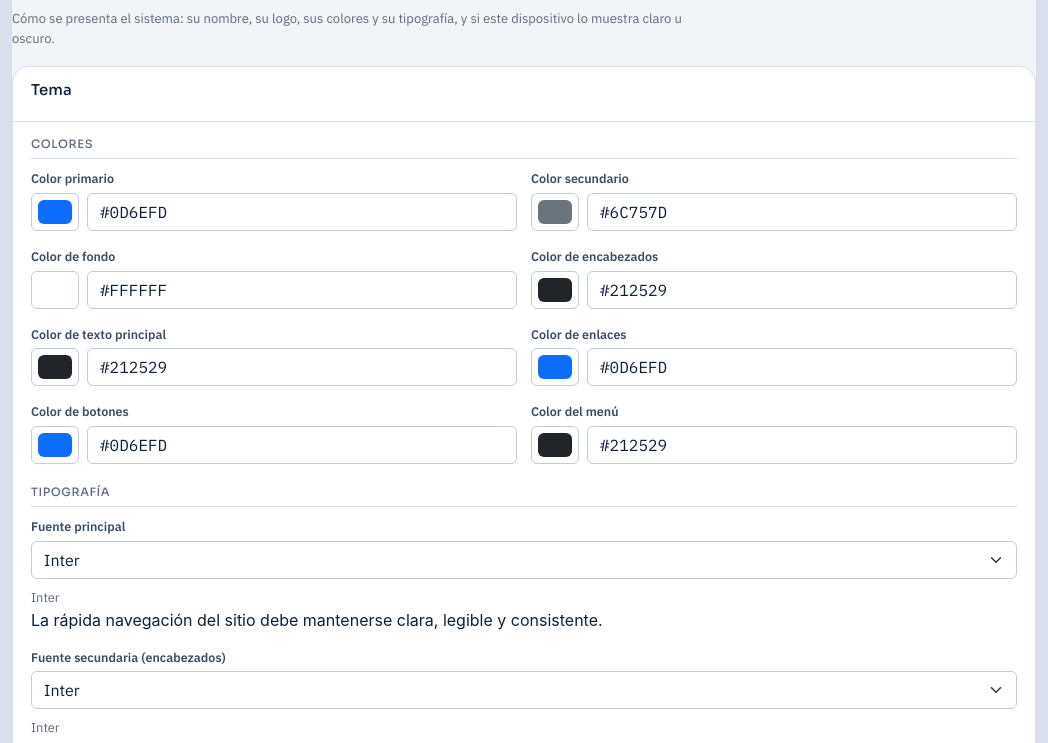
La pestaña de colores › corregido, vuelve a poder guardarse
The image size is (1048, 743).
Expected: the heading "Colores" is shown, left=31, top=138, right=1017, bottom=159
Type "azul" into the field below "Color primario" at (302, 212), box left=87, top=193, right=517, bottom=231
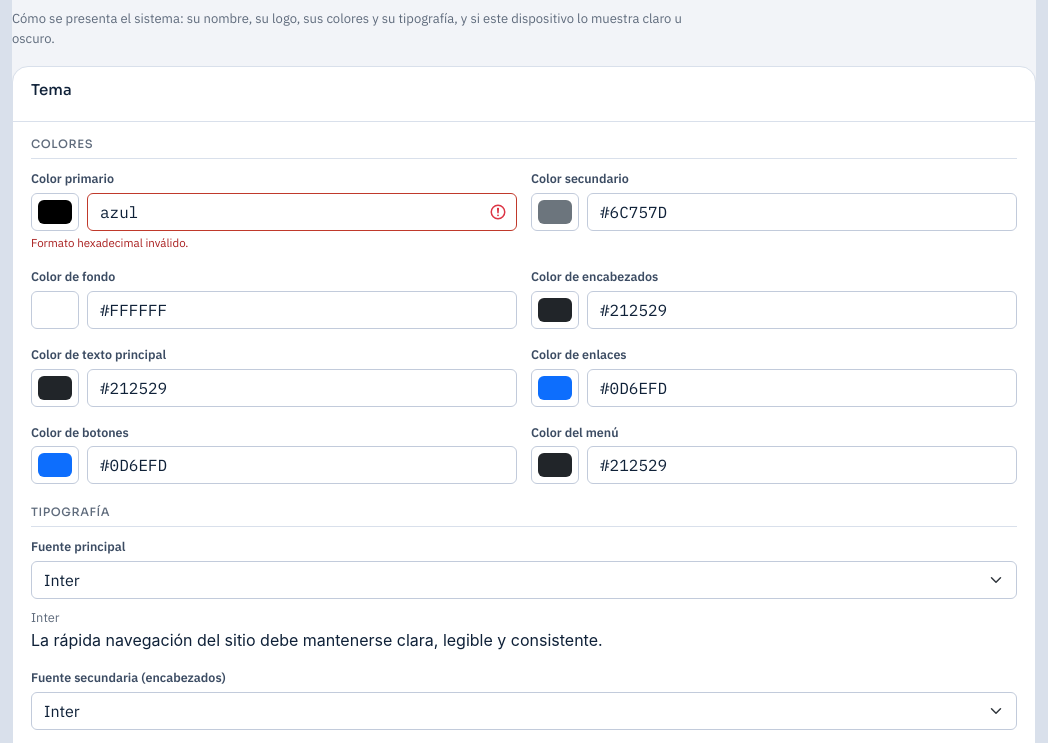
Replace the text in the field below "Color primario" with "#FF5733" at (302, 212), box left=87, top=193, right=517, bottom=231
(page scrolled)
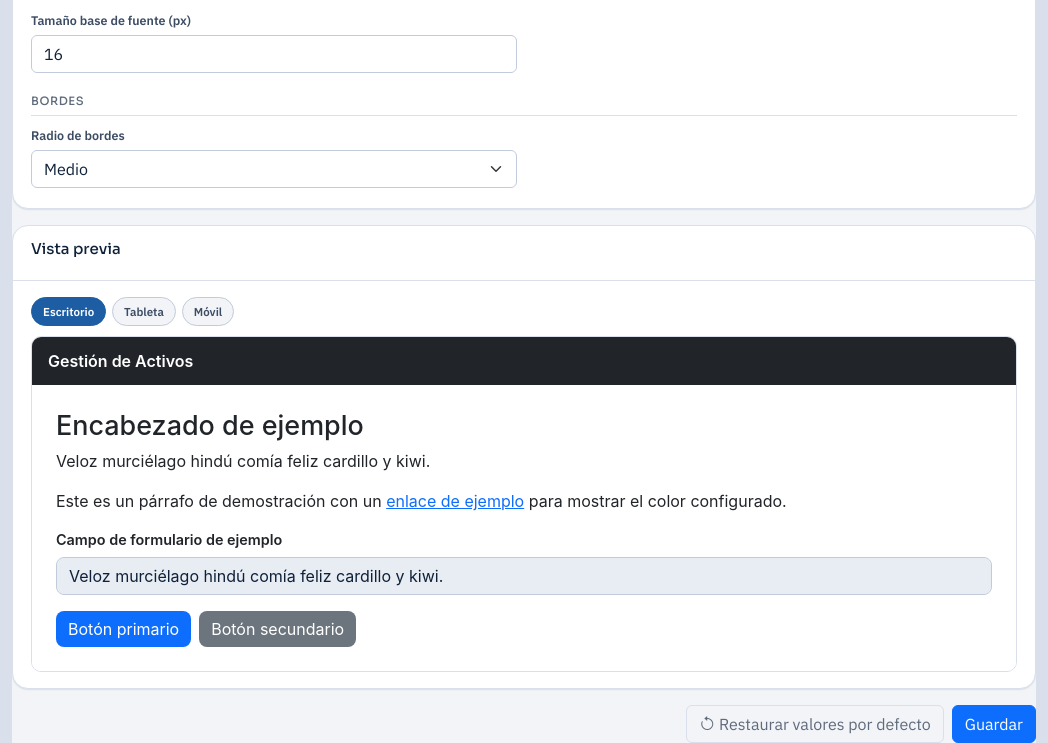
Expected: the button "Guardar" is enabled, left=952, top=704, right=1036, bottom=742
